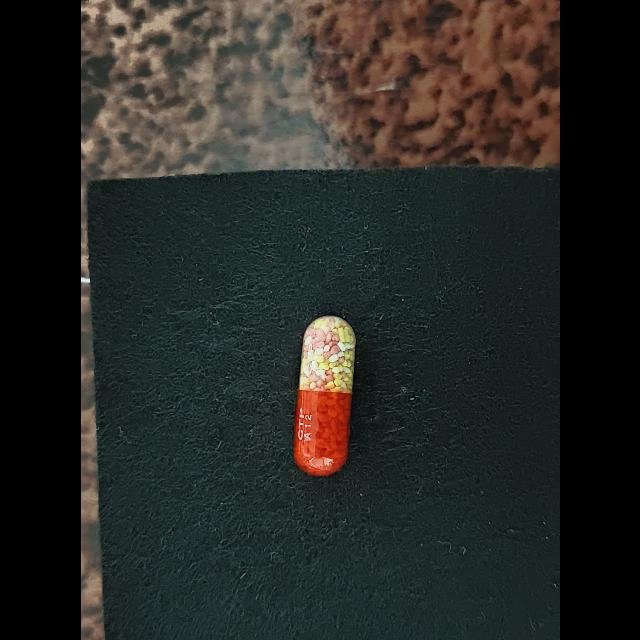Intact Capsule: (293, 315, 355, 476)
